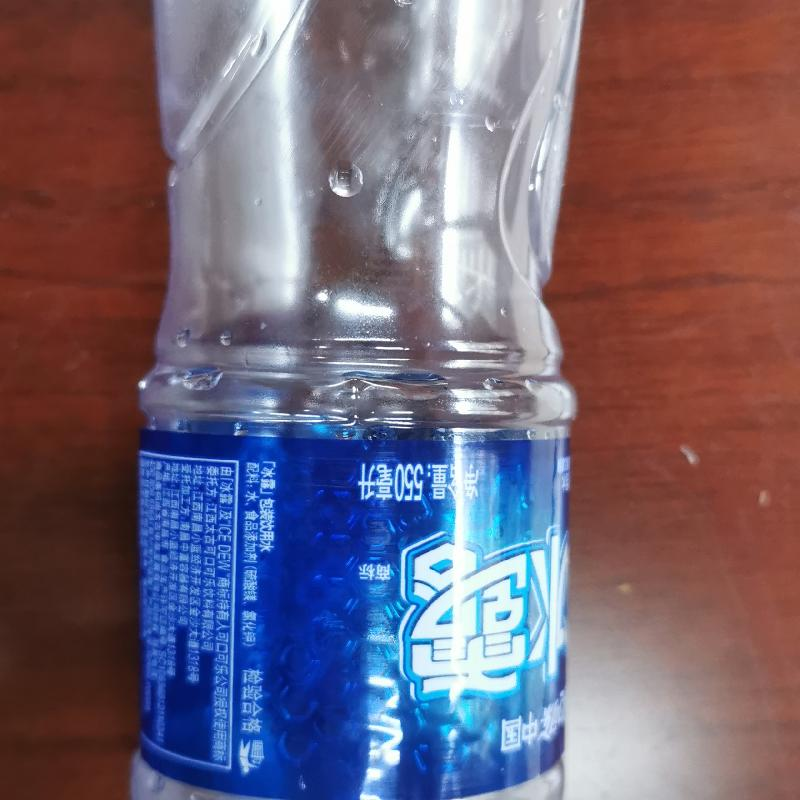bottles: (122, 1, 590, 799)
